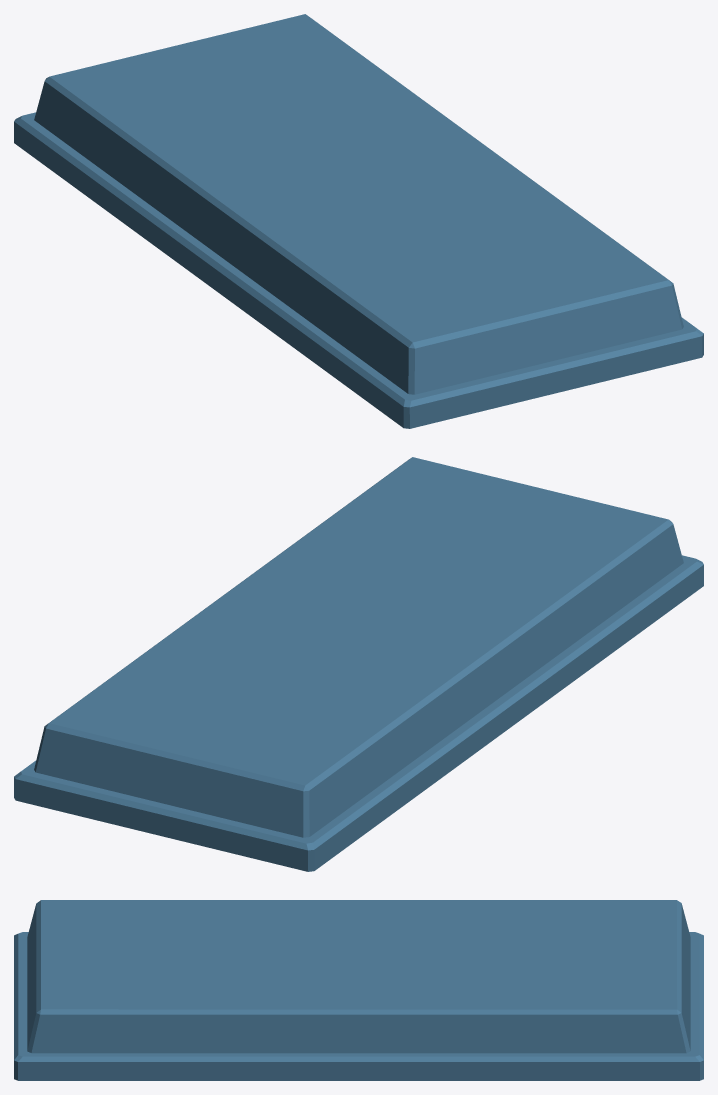
File: Cave_01.fbx
3 views of the same model, one above another, from view 1: azimuth 30°, elevation 25°; view 2: azimuth 150°, elevation 25°; view 3: azimuth 270°, elevation 25° (orthographic). The views are drawn at different scales.
Parts seen in each view (by area): view 1: Cave_01; view 2: Cave_01; view 3: Cave_01.
Boxes of the visible parts, x1,y1,x2,y2 form: Cave_01: (14, 14, 703, 428); Cave_01: (14, 457, 703, 871); Cave_01: (14, 900, 703, 1080).
Bounding box in the file's own units: 0.7034 × 0.1583 × 1.6.
